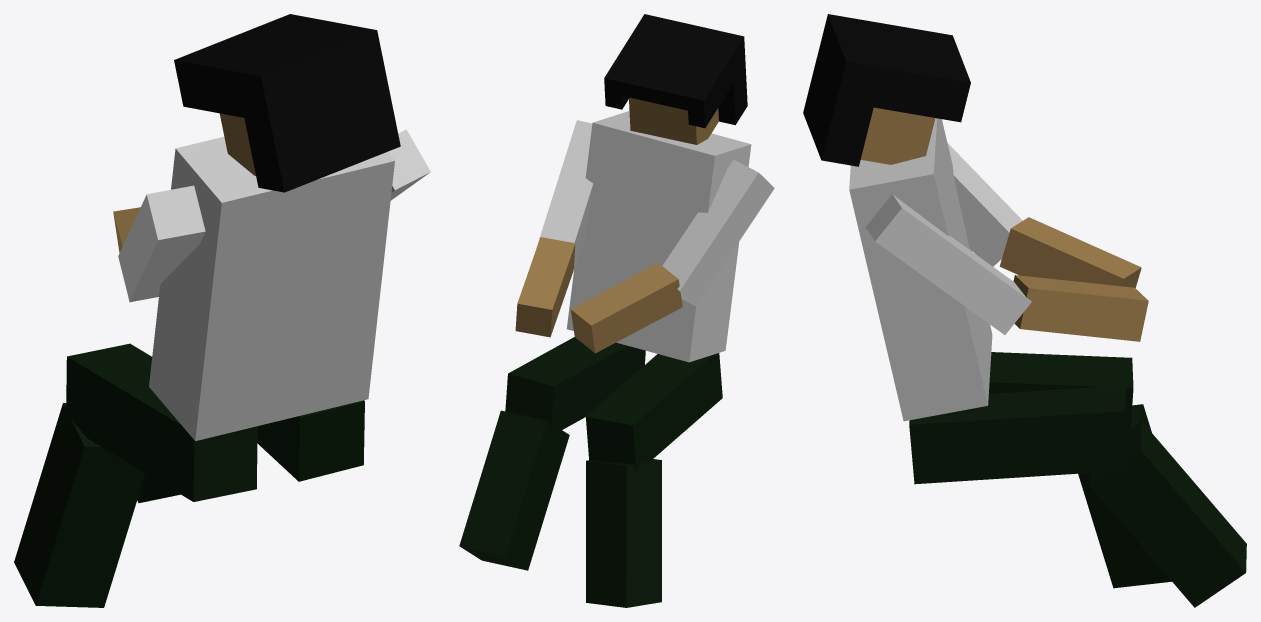
Rendered from student03.obj.
3 renders of one model, left to right at view 1: azimuth 30°, elevation 25°; view 2: azimuth 150°, elevation 25°; view 3: azimuth 270°, elevation 25°, orthographic. The views are drawn at different scales.
Parts seen in each view (by area): view 1: Body, Hair_Cube, LeftLegLower, LeftLegUpper, LeftArmUpper, RightLegUpper, RightArmUpper, Head, RightLegLower, LeftArmLower; view 2: Body, Hair_Cube, RightLegLower, LeftLegLower, LeftLegUpper, RightLegUpper, LeftArmUpper, LeftArmLower, RightArmLower, RightArmUpper, Head; view 3: Body, RightLegUpper, Hair_Cube, RightLegLower, RightArmUpper, RightArmLower, LeftArmLower, LeftLegUpper, LeftLegLower, LeftArmUpper, Head.
Part boxes in pixels (<box>): Body: <box>149,136,394,441</box>; Hair_Cube: <box>174,14,400,192</box>; LeftLegLower: <box>14,403,145,607</box>; LeftLegUpper: <box>66,343,257,501</box>; LeftArmUpper: <box>118,185,205,302</box>; RightLegUpper: <box>257,400,364,481</box>; RightArmUpper: <box>387,129,430,200</box>; Head: <box>219,113,255,175</box>; RightLegLower: <box>137,473,180,503</box>; LeftArmLower: <box>113,207,140,252</box>; Body: <box>566,111,751,362</box>; Hair_Cube: <box>604,14,747,128</box>; RightLegLower: <box>459,410,569,570</box>; LeftLegLower: <box>586,459,661,607</box>; LeftLegUpper: <box>586,353,722,472</box>; RightLegUpper: <box>505,337,645,429</box>; LeftArmUpper: <box>662,159,774,305</box>; LeftArmLower: <box>570,263,682,353</box>; RightArmLower: <box>515,237,575,337</box>; RightArmUpper: <box>537,120,593,269</box>; Head: <box>629,97,718,144</box>; Body: <box>849,118,992,421</box>; RightLegUpper: <box>909,385,1129,484</box>; Hair_Cube: <box>803,14,970,166</box>; RightLegLower: <box>1089,421,1246,607</box>; RightArmUpper: <box>865,194,1031,334</box>; RightArmLower: <box>1013,275,1148,341</box>; LeftArmLower: <box>999,217,1141,287</box>; LeftLegUpper: <box>989,352,1133,428</box>; LeftLegLower: <box>1078,404,1171,588</box>; LeftArmUpper: <box>947,143,1022,266</box>; Head: <box>860,107,935,164</box>.
Size of the model in its own units: 0.6306 by 1.48 by 1.03.
